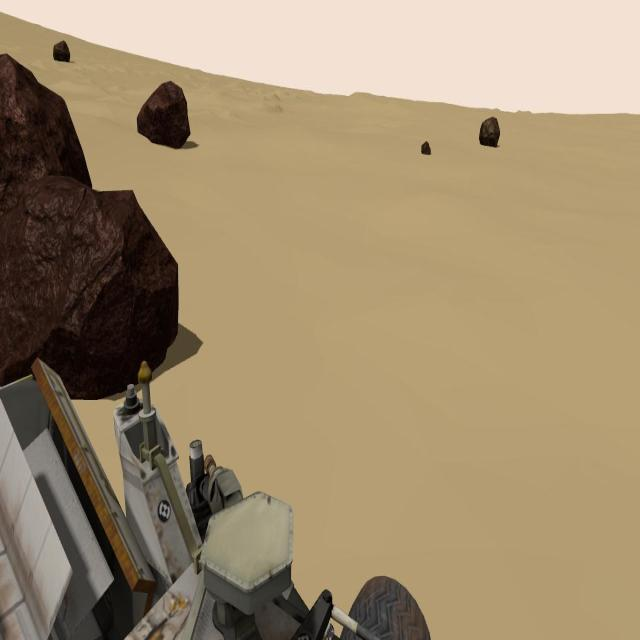rock: (0, 174, 179, 400), (0, 52, 92, 190), (137, 81, 190, 149), (479, 115, 500, 147), (54, 39, 70, 63), (421, 141, 430, 154)
